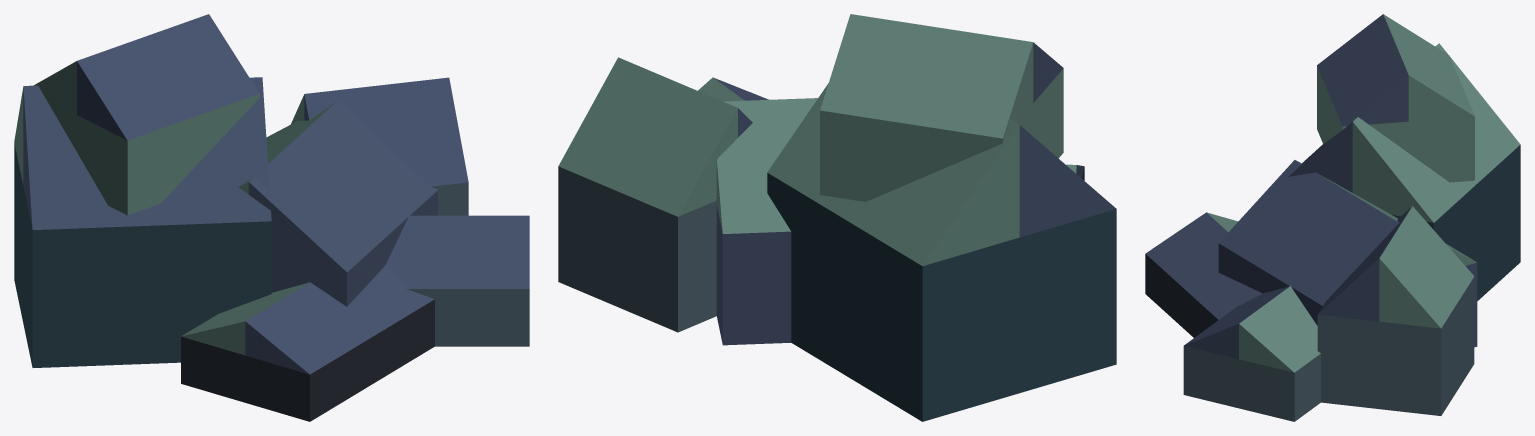
The model's file is CMU3DMaterialLeisureIceCrystalCloud.glb.
3 renders of one model, left to right at view 1: azimuth 30°, elevation 25°; view 2: azimuth 150°, elevation 25°; view 3: azimuth 270°, elevation 25°, orthographic. The views are drawn at different scales.
Parts seen in each view (by area): view 1: crystal 0 mineral base, crystal 2 front bevel, crystal 0 front bevel, crystal 1 front bevel, crystal 4 mineral base, crystal 1 mineral base, crystal 4 front bevel, crystal 5 front bevel, crystal 3 front bevel, crystal 5 mineral base, crystal 2 mineral base, crystal 4 rear bevel (+4 smaller); view 2: crystal 0 mineral base, crystal 1 rear bevel, crystal 3 mineral base, crystal 3 rear bevel, crystal 0 rear bevel, crystal 1 mineral base, crystal 2 mineral base, crystal 2 rear bevel, crystal 0 front bevel, crystal 1 front bevel, crystal 5 rear bevel; view 3: crystal 3 mineral base, crystal 2 front bevel, crystal 0 rear bevel, crystal 3 rear bevel, crystal 0 mineral base, crystal 1 front bevel, crystal 5 mineral base, crystal 1 mineral base, crystal 4 front bevel, crystal 5 rear bevel, crystal 1 rear bevel, crystal 3 front bevel (+5 smaller).
Part boxes in pixels (box(x1,y1,x2,y2)): crystal 0 mineral base: box(14, 143, 271, 367); crystal 2 front bevel: box(248, 100, 437, 272); crystal 0 front bevel: box(23, 77, 271, 229); crystal 1 front bevel: box(77, 14, 259, 140); crystal 4 mineral base: box(181, 299, 434, 421); crystal 1 mineral base: box(46, 94, 259, 215); crystal 4 front bevel: box(245, 265, 434, 374); crystal 5 front bevel: box(385, 215, 529, 288); crystal 3 front bevel: box(304, 77, 468, 186); crystal 5 mineral base: box(407, 289, 529, 346); crystal 2 mineral base: box(271, 190, 438, 306); crystal 4 rear bevel: box(181, 282, 309, 355); crystal 0 mineral base: box(767, 173, 1116, 421); crystal 1 rear bevel: box(820, 14, 1033, 138); crystal 3 mineral base: box(558, 166, 716, 332); crystal 3 rear bevel: box(558, 57, 737, 216); crystal 0 rear bevel: box(767, 83, 1019, 266); crystal 1 mineral base: box(820, 68, 1063, 201); crystal 2 mineral base: box(716, 205, 791, 345); crystal 2 rear bevel: box(716, 98, 817, 233); crystal 0 front bevel: box(1019, 125, 1116, 237); crystal 1 front bevel: box(1033, 42, 1063, 102); crystal 5 rear bevel: box(698, 77, 744, 101); crystal 3 mineral base: box(1317, 277, 1474, 415); crystal 2 front bevel: box(1219, 160, 1398, 305); crystal 0 rear bevel: box(1352, 43, 1520, 222); crystal 3 rear bevel: box(1379, 206, 1474, 328); crystal 0 mineral base: box(1392, 145, 1520, 300); crystal 1 front bevel: box(1317, 14, 1408, 126); crystal 5 mineral base: box(1183, 346, 1320, 421); crystal 1 mineral base: box(1317, 66, 1474, 182); crystal 4 front bevel: box(1145, 212, 1262, 319); crystal 5 rear bevel: box(1239, 286, 1320, 372); crystal 1 rear bevel: box(1383, 14, 1474, 121); crystal 3 front bevel: box(1318, 207, 1411, 321).
Size of the model in its own units: 0.7081 by 0.415 by 0.5857.
